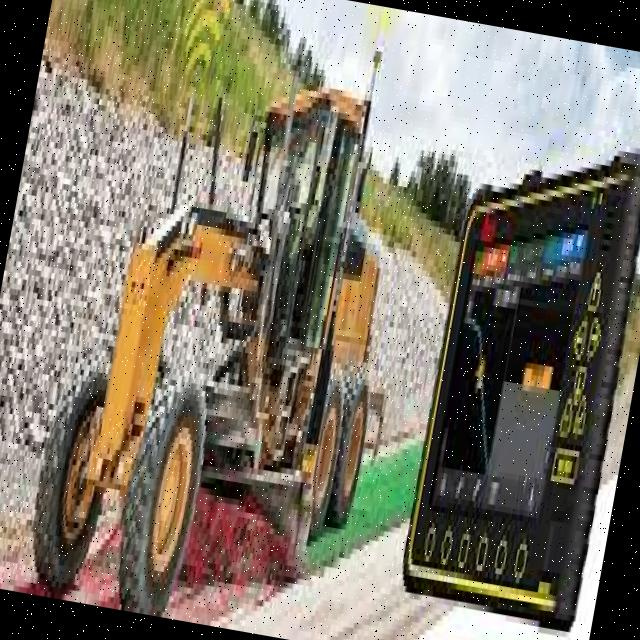Grader: (15, 0, 468, 640)
